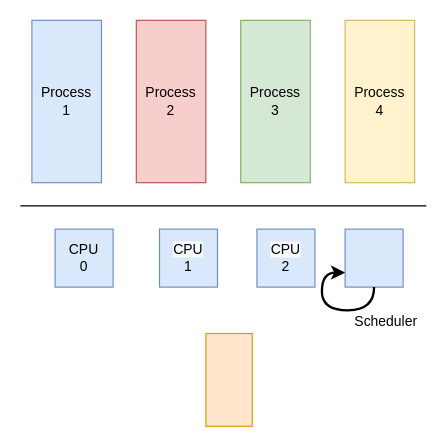
This 448x447 diagram has some shape labels left out. The box of each missing label's shape, as (x1, y1, x2, y2) in pixels:
CPU 3: (344, 228, 403, 287)
RAM: (205, 332, 252, 426)
